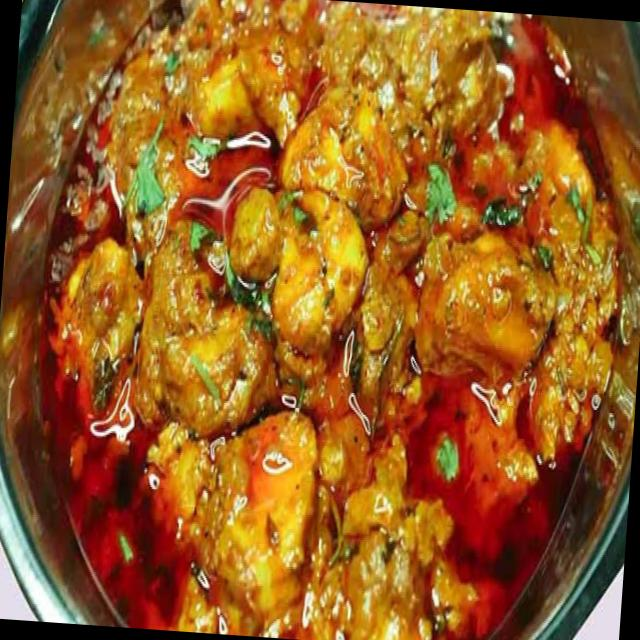chicken: (39, 4, 634, 640)
